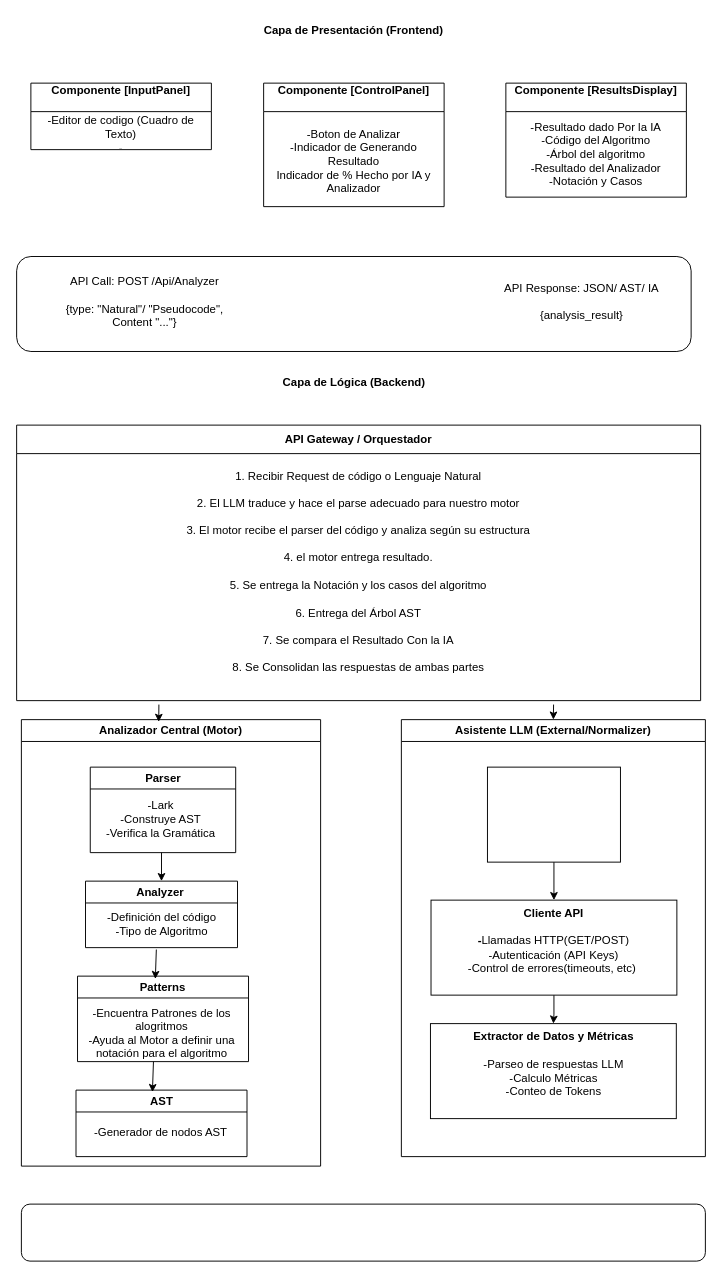
Image size: 722x1278. Some labels were removed from this diagram. The centre of each missing label's shape, as x and y in pixels:
Gestor de Prompts -Plantillas (Traducir, Validar ) -Ingeniería de Prompts: (x=553, y=814)
LLamado de Servicio Externo [API de LLM: Gemini]: (x=362, y=1232)
